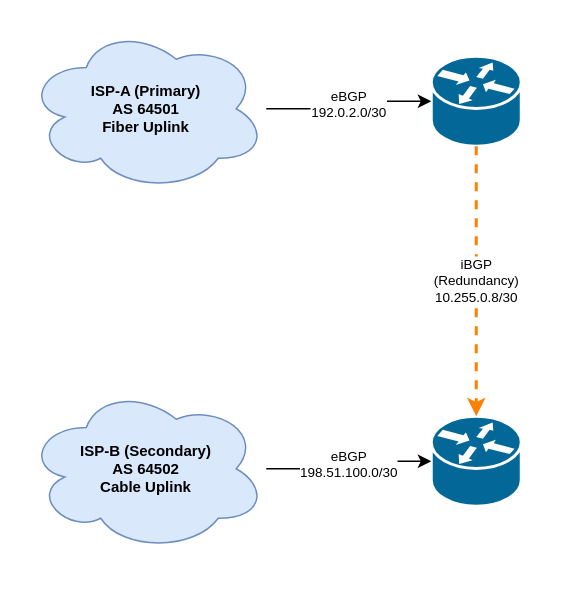
The diagram is 575 pixels wide and 608 high, and some of its shapes have lost their labels. The shapes that lost their labels are listed below. From the top down, each one's centre as x and y in pixels, then its label:
At [475,100]: "Border-RTR-01 Cisco ASR1002-X 10.255.0.1/30".
At [475,460]: "Border-RTR-02 Cisco ASR1002-X 10.255.0.5/30".
